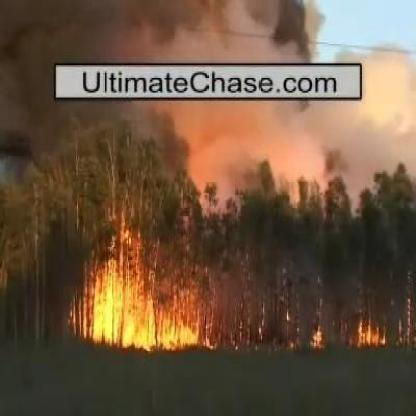-: (9, 2, 320, 61)
foggia-v2-map80-epoch100 - v1 4323: (84, 244, 198, 344)
